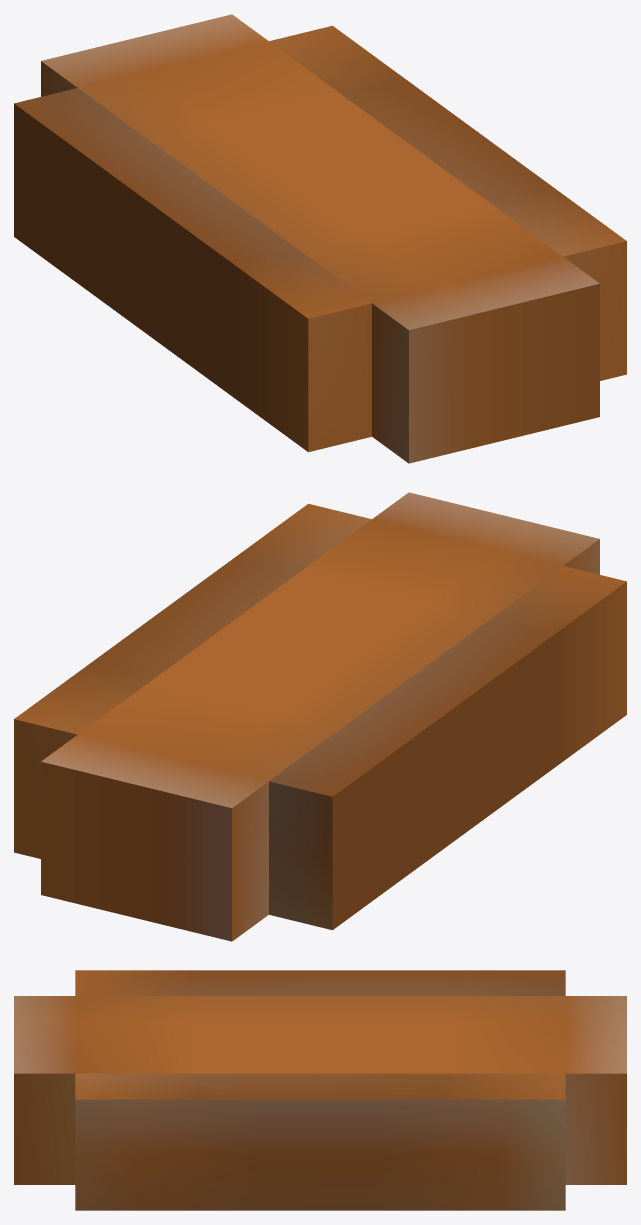
The model's file is PillowOrange_01.fbx.
3 renders of one model, top to bottom at view 1: azimuth 30°, elevation 25°; view 2: azimuth 150°, elevation 25°; view 3: azimuth 270°, elevation 25°, orthographic. The views are drawn at different scales.
Parts seen in each view (by area): view 1: PillowOrange_01; view 2: PillowOrange_01; view 3: PillowOrange_01.
Part boxes in pixels (x1,y1,x2,y2): PillowOrange_01: [14, 14, 626, 463]; PillowOrange_01: [14, 492, 626, 941]; PillowOrange_01: [14, 970, 626, 1210].
Bounding box in the file's own units: 25 × 50 × 10.
Materials: 1 (1 with a texture image).
